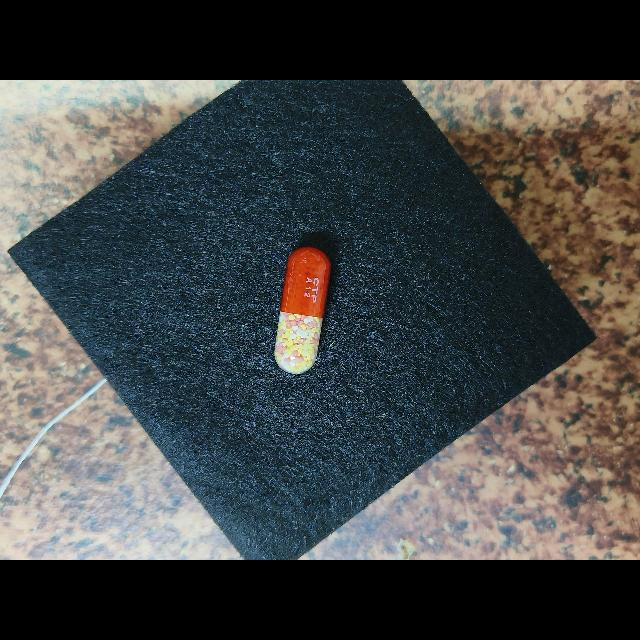Intact Capsule: (274, 246, 331, 374)
